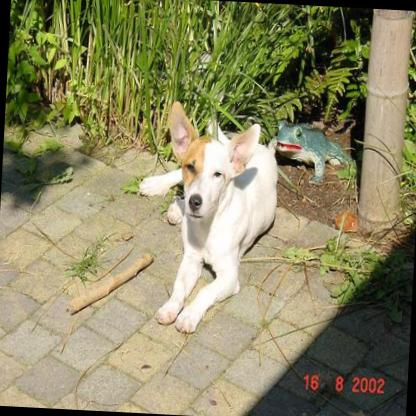dingo: (112, 91, 294, 339)
